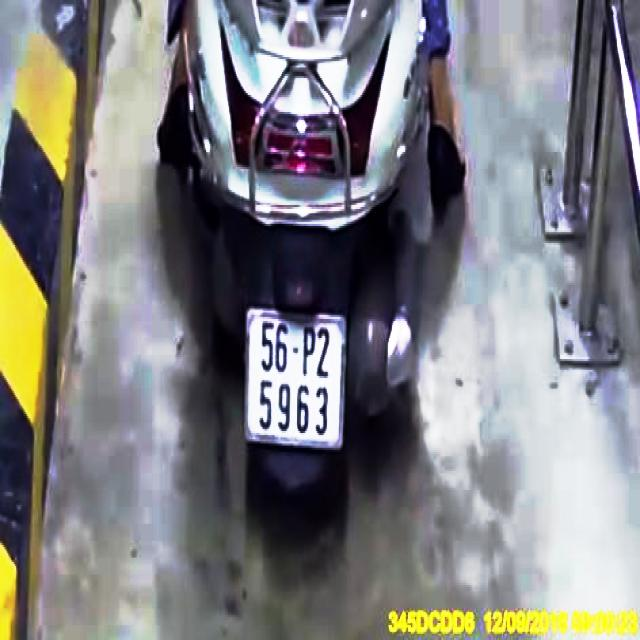license_plate: (248, 312, 347, 445)
